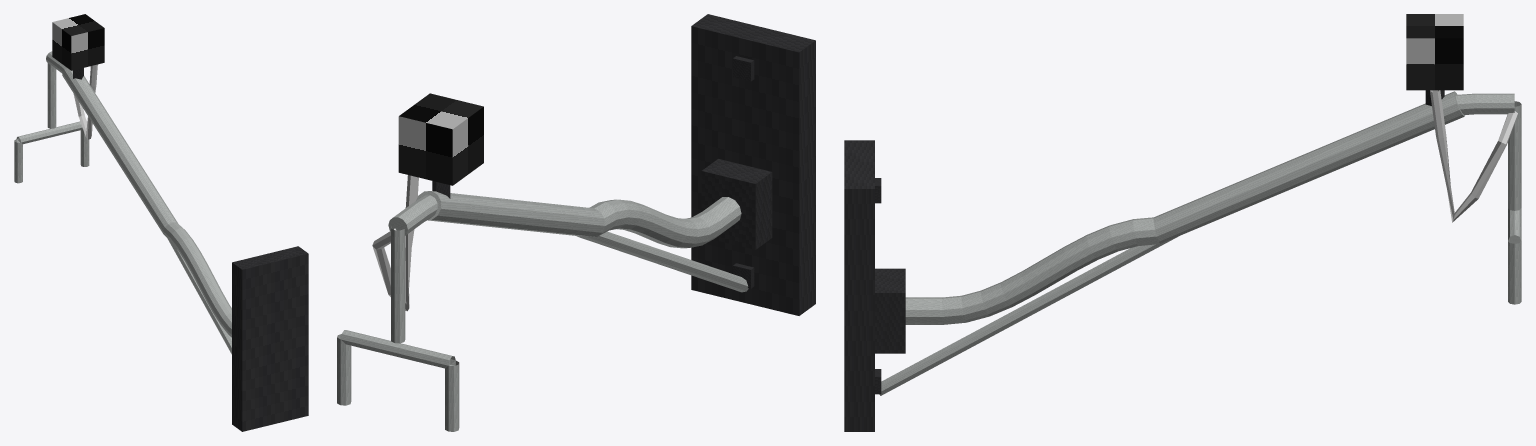
The model's file is arm_2_straight_flood_down_wired.obj.
3 views of the same model, side by side, from view 1: azimuth 30°, elevation 25°; view 2: azimuth 150°, elevation 25°; view 3: azimuth 270°, elevation 25° (orthographic). The views are drawn at different scales.
Visible parts, largest first — view 1: pole_light_mount_2_straight_flood_down_wired; view 2: pole_light_mount_2_straight_flood_down_wired; view 3: pole_light_mount_2_straight_flood_down_wired.
Part boxes in pixels (box(x1,y1,x2,y2)): pole_light_mount_2_straight_flood_down_wired: box(14, 14, 308, 431); pole_light_mount_2_straight_flood_down_wired: box(337, 14, 815, 431); pole_light_mount_2_straight_flood_down_wired: box(844, 14, 1521, 431).
Bounding box in the file's own units: 0.419 × 1.37 × 2.21.
